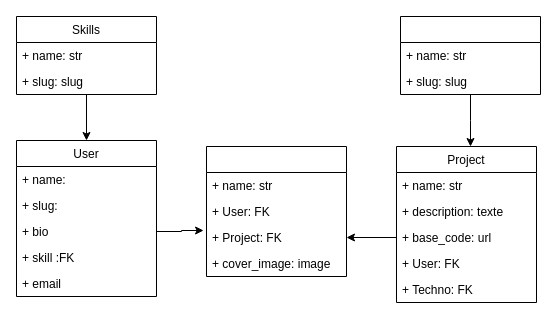
Image size: 557x319. Some labels were removed from this diagram. Each missing label, with the box of its shape:
Portefolio: (206, 146, 346, 276)
Techno: (400, 16, 540, 94)
